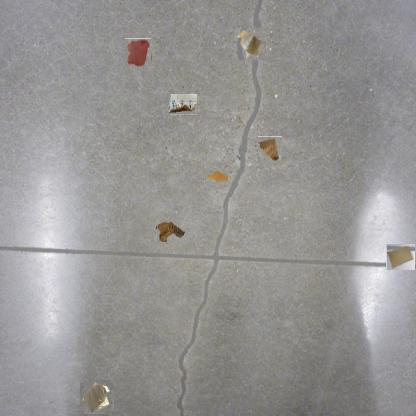dirty: (234, 28, 266, 60), (82, 382, 112, 413), (386, 244, 415, 270), (156, 218, 184, 242), (258, 136, 282, 163), (169, 94, 197, 115)
liquid: (125, 39, 152, 67), (204, 168, 228, 182)
